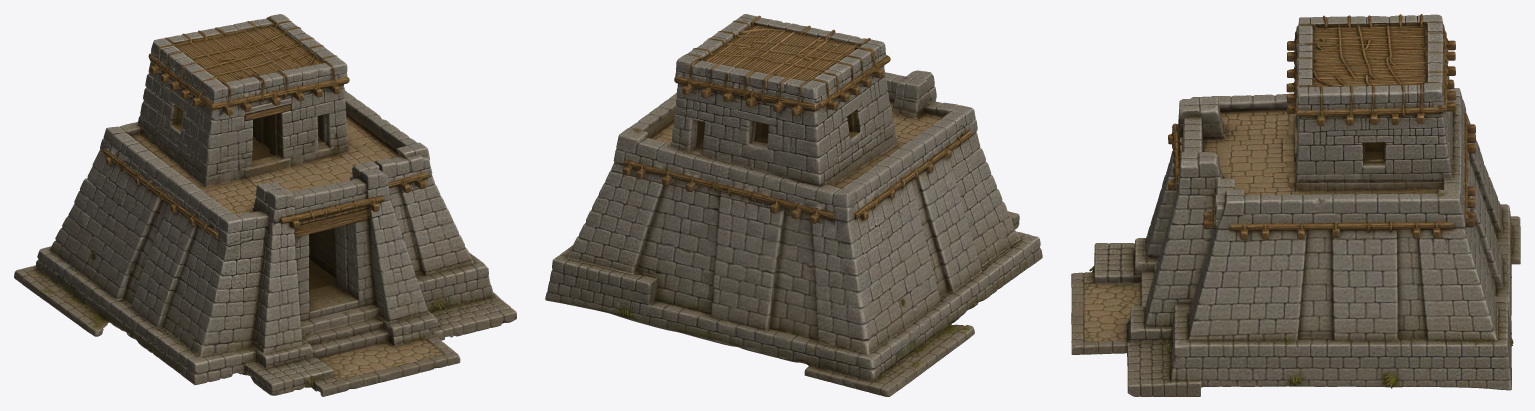
File: inca.glb
3 views of the same model, side by side, from view 1: azimuth 30°, elevation 25°; view 2: azimuth 150°, elevation 25°; view 3: azimuth 270°, elevation 25° (orthographic). The views are drawn at different scales.
Parts seen in each view (by area): view 1: tripo_node_1064a14a-57a1-4747-baac-515012635cfc; view 2: tripo_node_1064a14a-57a1-4747-baac-515012635cfc; view 3: tripo_node_1064a14a-57a1-4747-baac-515012635cfc.
Boxes of the visible parts, bbox=[...] form: tripo_node_1064a14a-57a1-4747-baac-515012635cfc: bbox=[14, 14, 516, 396]; tripo_node_1064a14a-57a1-4747-baac-515012635cfc: bbox=[545, 14, 1042, 396]; tripo_node_1064a14a-57a1-4747-baac-515012635cfc: bbox=[1071, 14, 1520, 396].
Size of the model in its own units: 0.926 by 0.639 by 0.9782.
Materials: 1 (1 with a texture image).
